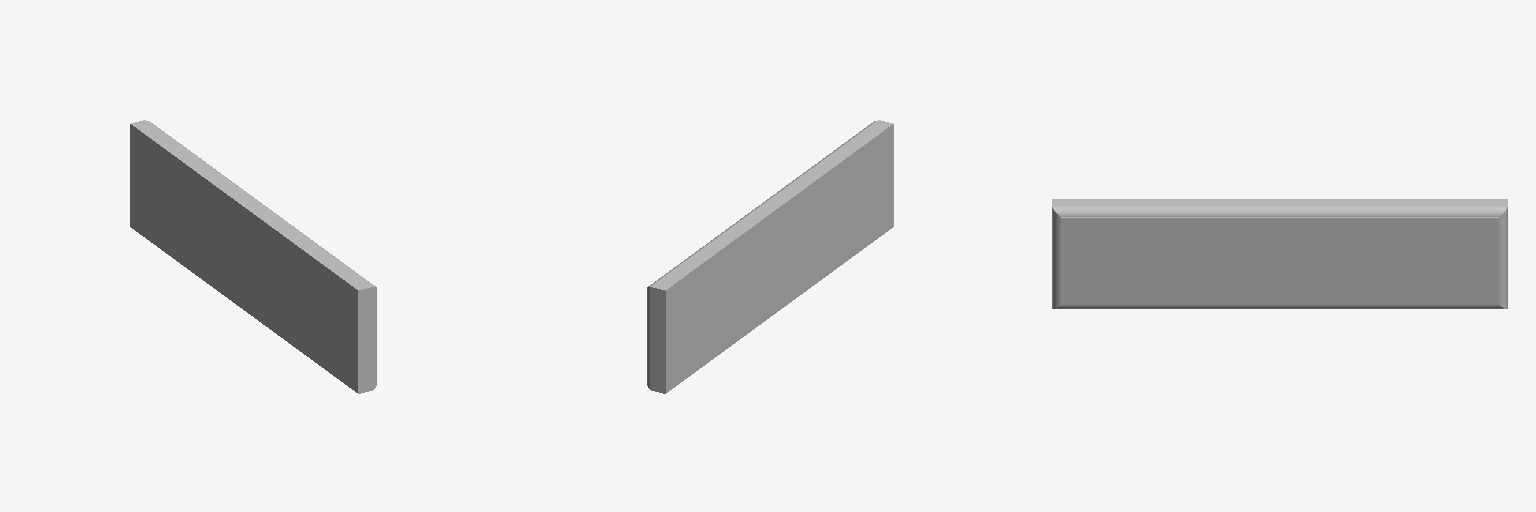
The model's file is original-6.obj.
The picture shows the model from 3 angles: view 1: azimuth 30°, elevation 25°; view 2: azimuth 150°, elevation 25°; view 3: azimuth 270°, elevation 25°; orthographic projection.
Visible parts, largest first — view 1: Group6/mesh9/mesh9-geometry#mesh9-geometry; view 2: Group6/mesh9/mesh9-geometry#mesh9-geometry; view 3: Group6/mesh9/mesh9-geometry#mesh9-geometry.
Boxes of the visible parts, <box> form: Group6/mesh9/mesh9-geometry#mesh9-geometry: <box>130,120,376,393</box>; Group6/mesh9/mesh9-geometry#mesh9-geometry: <box>647,120,893,393</box>; Group6/mesh9/mesh9-geometry#mesh9-geometry: <box>1052,199,1507,308</box>.
Bounding box in the file's own units: 0.0153 × 0.0649 × 0.2598.